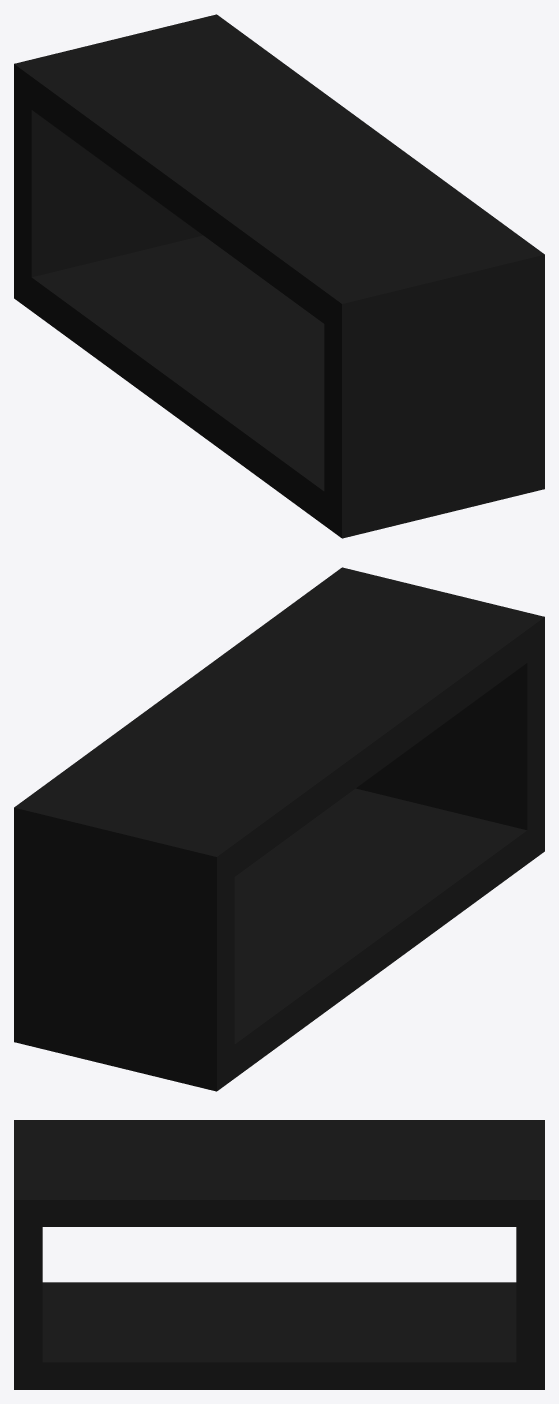
Rendered from Shelf_02.fbx.
3 views of the same model, one above another, from view 1: azimuth 30°, elevation 25°; view 2: azimuth 150°, elevation 25°; view 3: azimuth 270°, elevation 25° (orthographic). The views are drawn at different scales.
Parts seen in each view (by area): view 1: Cube; view 2: Cube; view 3: Cube.
Part boxes in pixels (x1,y1,x2,y2): Cube: (14,14,544,538); Cube: (14,567,544,1091); Cube: (14,1120,544,1389).
Size of the model in its own units: 40 by 44.2 by 112.
